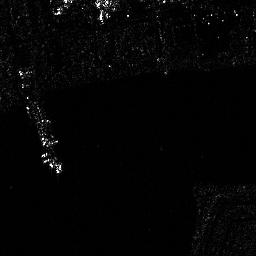ship: (24, 100, 58, 148), (39, 153, 62, 173)
